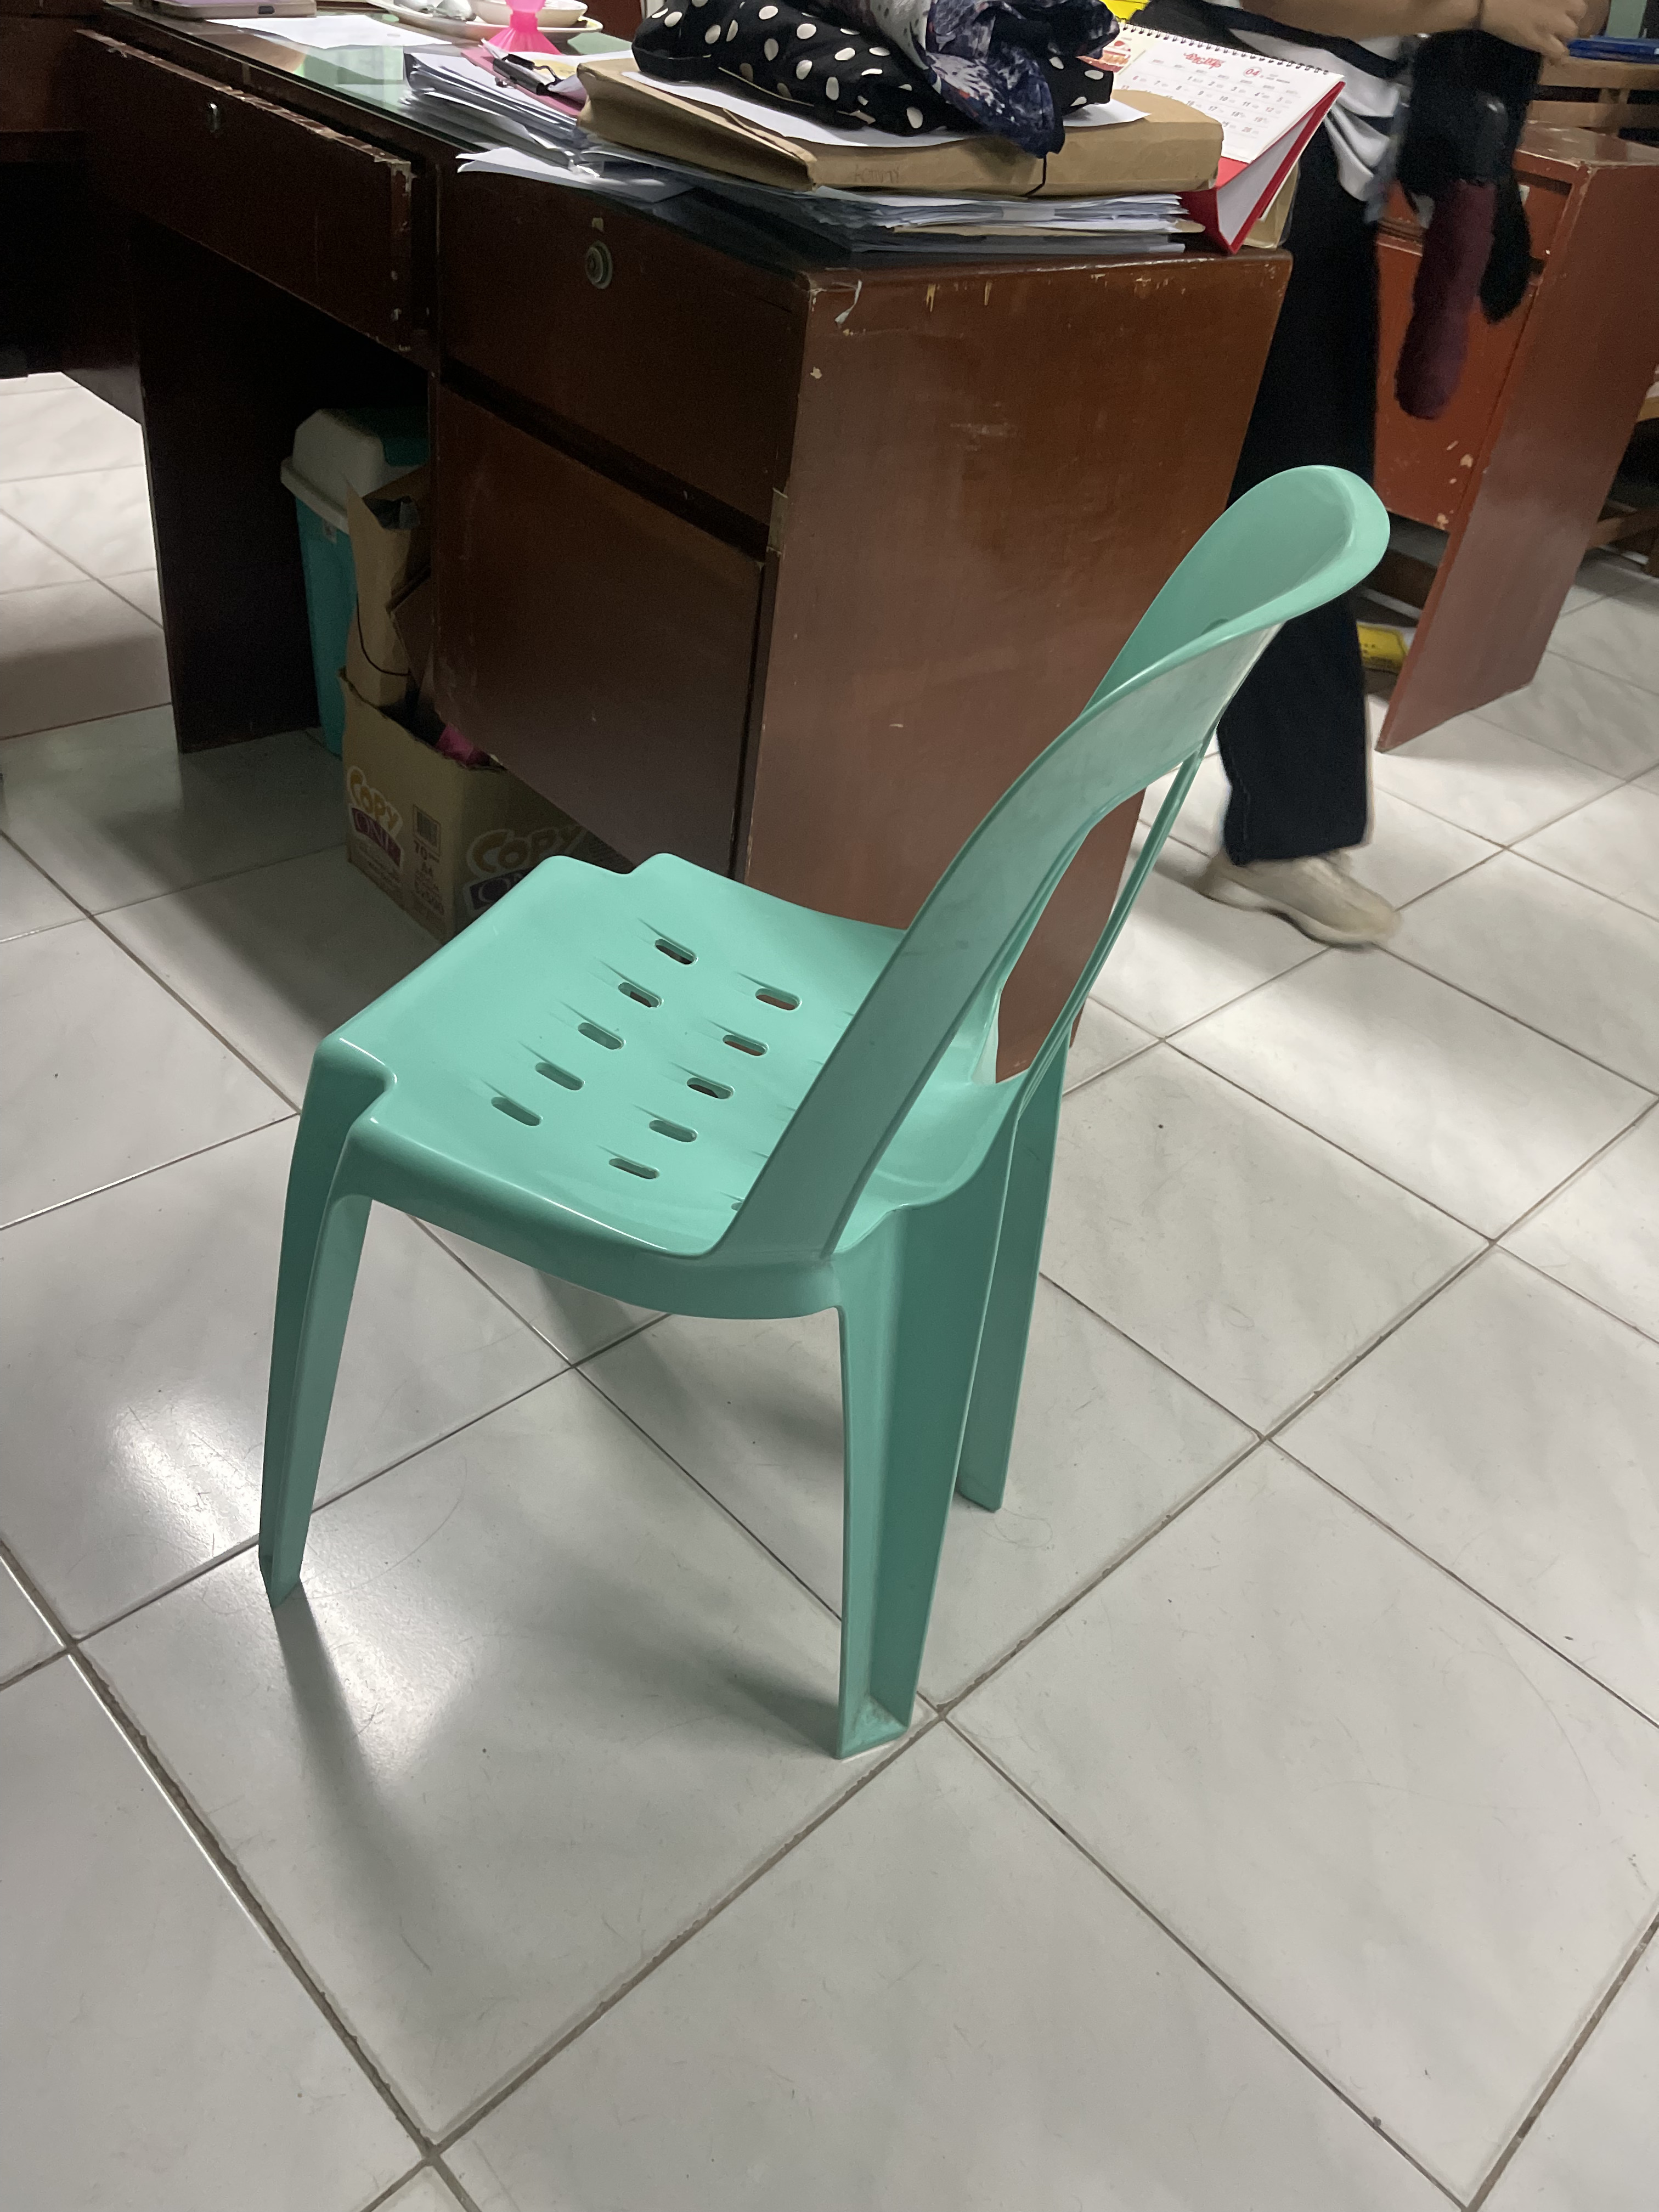chair2: (240, 435, 1406, 1808)
